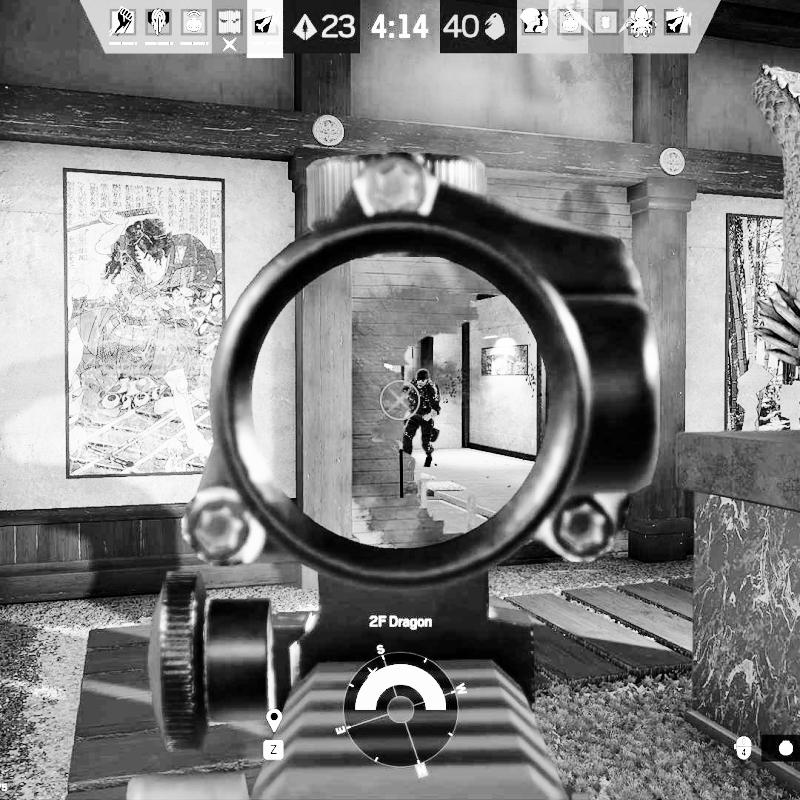Character: (398, 367, 444, 470)
Head: (415, 370, 431, 388)
